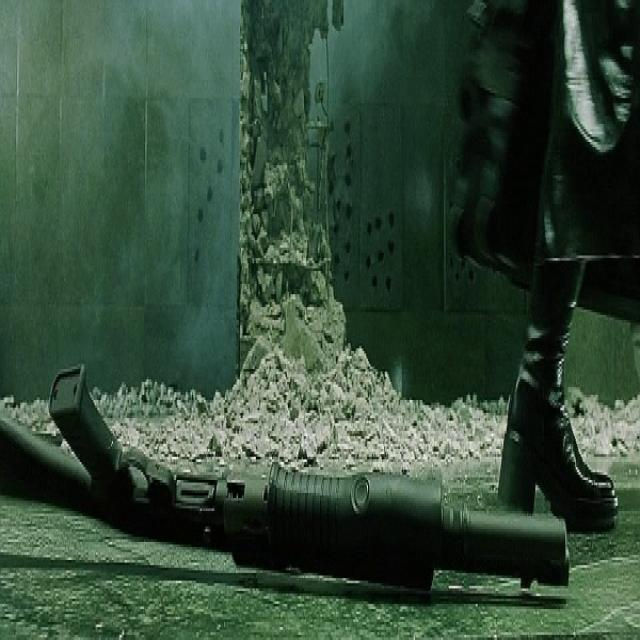rifle: (1, 364, 583, 601)
